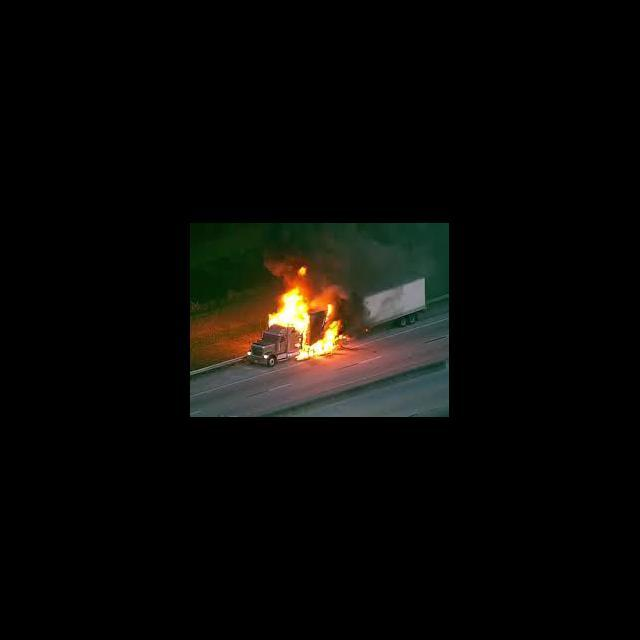Fire: (295, 303, 346, 366), (262, 284, 306, 334)
Smoke: (260, 224, 450, 277)
